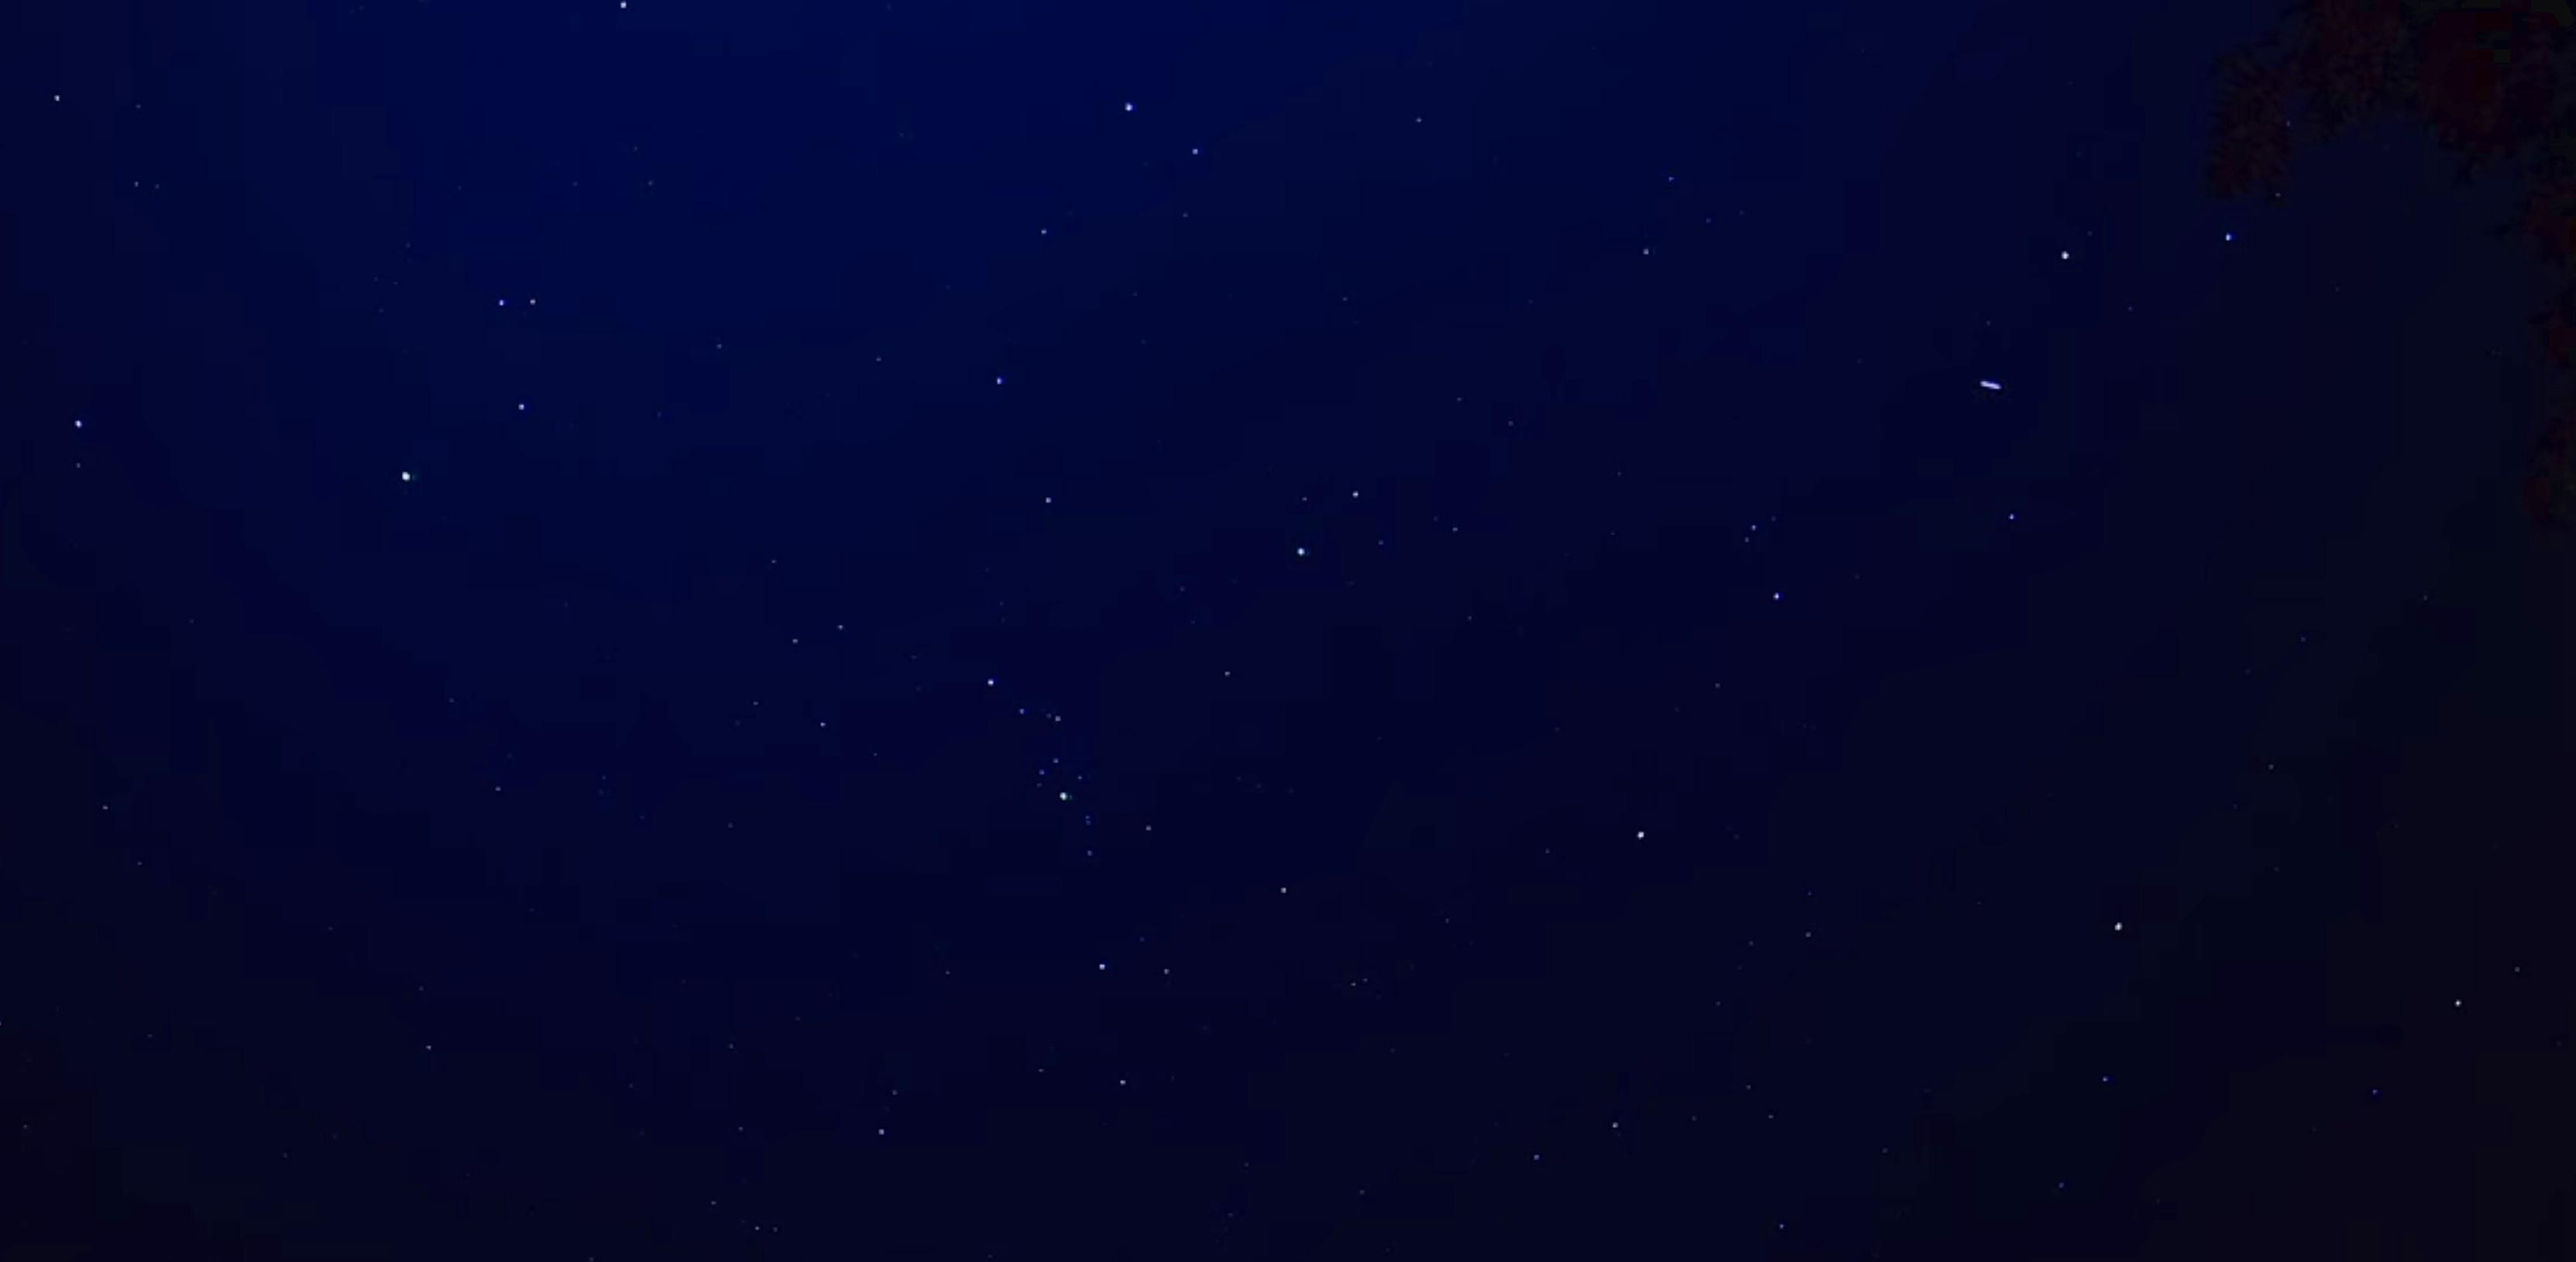meteorite: (1960, 376, 2012, 403)
